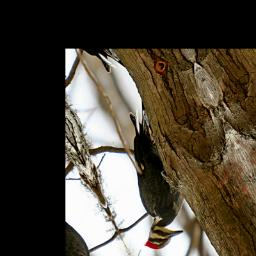Woodpecker: (88, 99, 204, 256)
